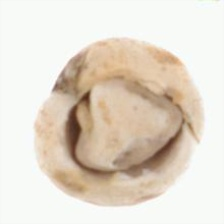L3: (62, 73, 185, 172)
L4: (34, 37, 204, 206)
